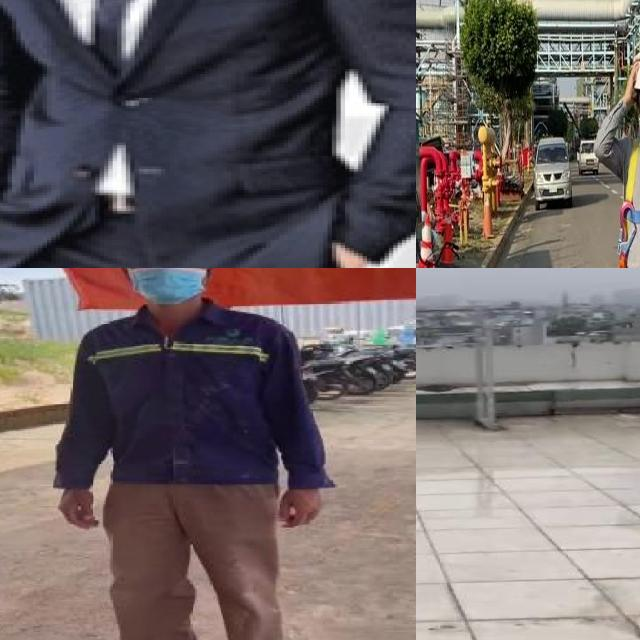Harness: (619, 142, 640, 268)
face_mask: (125, 268, 204, 301)
hand_noglove: (273, 482, 331, 532), (50, 484, 105, 531)
person: (44, 268, 364, 640)
